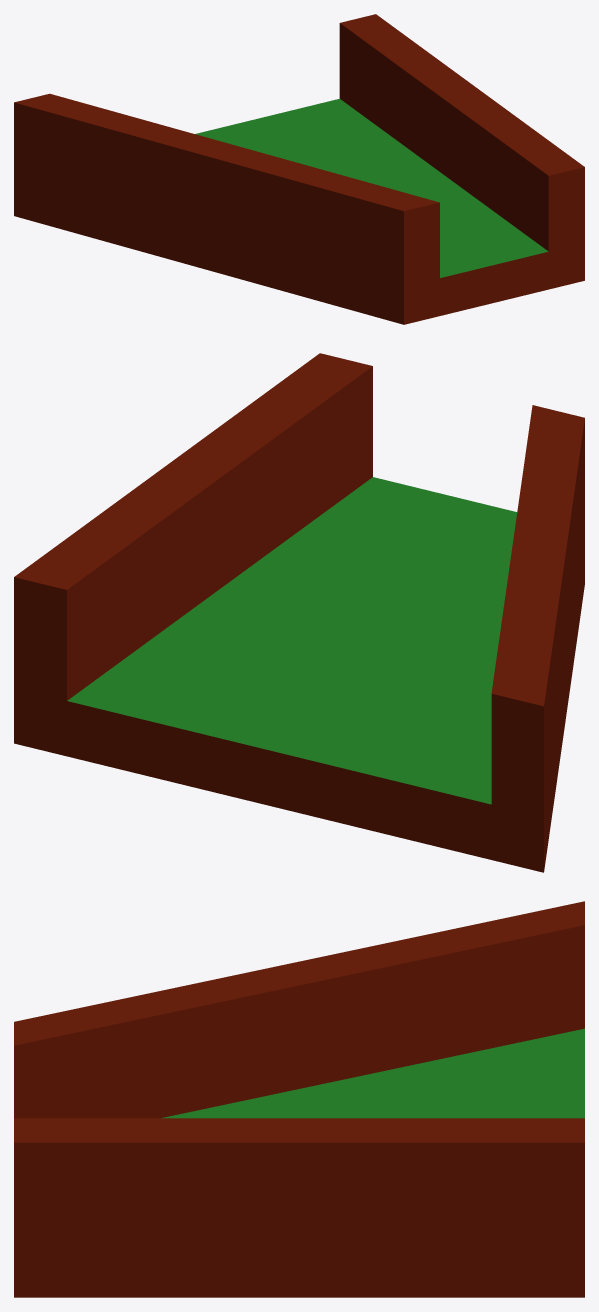
The model's file is StraightLeft.obj.
The picture shows the model from 3 angles, top to bottom: view 1: azimuth 30°, elevation 25°; view 2: azimuth 150°, elevation 25°; view 3: azimuth 270°, elevation 25°; orthographic projection. The views are drawn at different scales.
Parts seen in each view (by area): view 1: StraightLeft; view 2: StraightLeft; view 3: StraightLeft.
Part boxes in pixels (x1=…): StraightLeft: x1=14, y1=14, x2=584, y2=324; StraightLeft: x1=14, y1=353, x2=584, y2=872; StraightLeft: x1=14, y1=901, x2=584, y2=1297.
Size of the model in its own units: 2 by 0.6 by 2.
